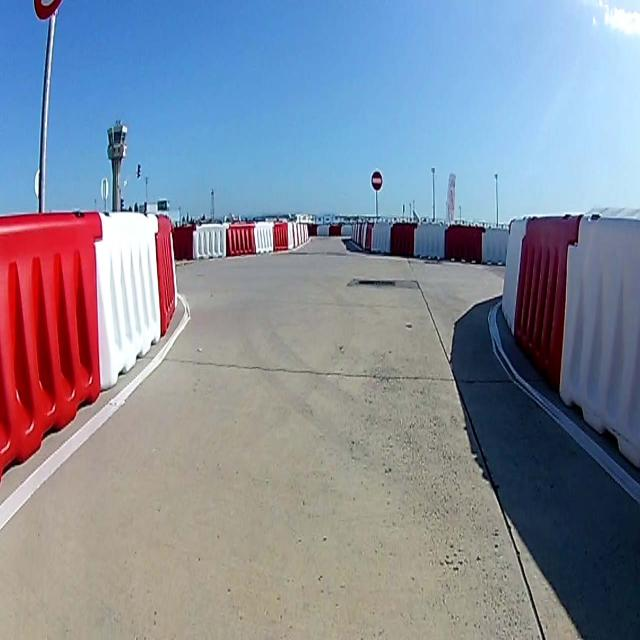girisyok: (371, 170, 383, 192)
